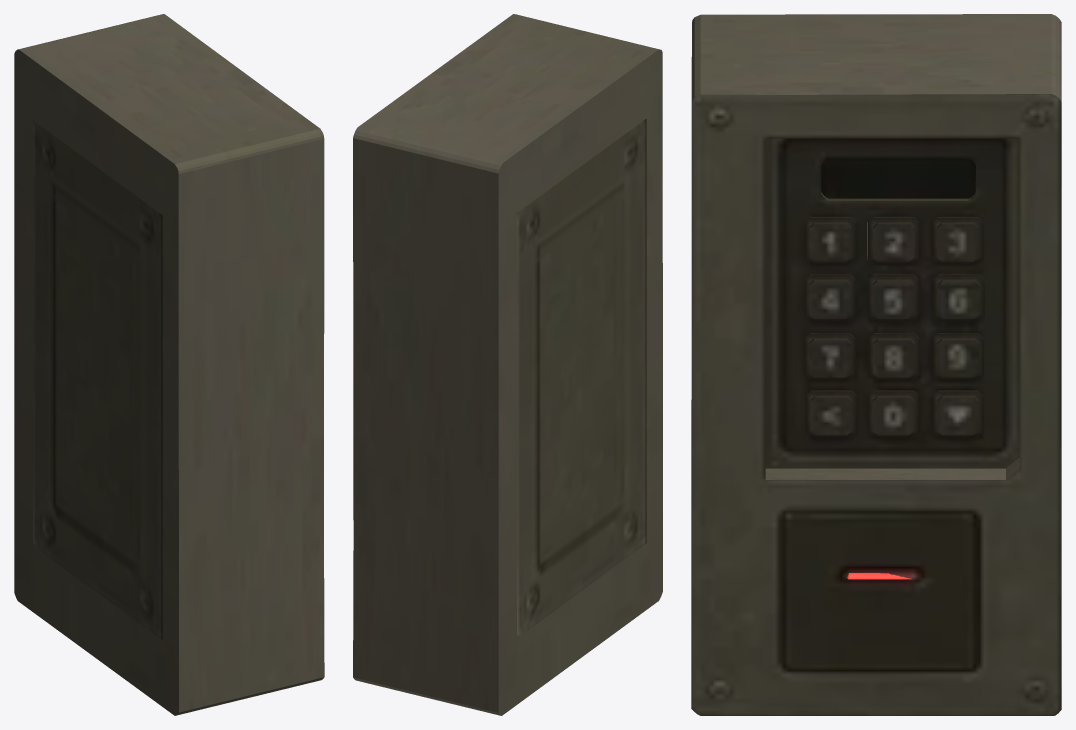
Rendered from keypad.glb.
The picture shows the model from 3 angles, left to right: view 1: azimuth 30°, elevation 25°; view 2: azimuth 150°, elevation 25°; view 3: azimuth 270°, elevation 25°; orthographic projection. The views are drawn at different scales.
Visible parts, largest first — view 1: 0_Base_0; view 2: 0_Base_0; view 3: 0_Base_0.
Boxes of the visible parts, box(x1,y1,x2,y2) form: 0_Base_0: box(14, 14, 324, 715); 0_Base_0: box(353, 14, 662, 715); 0_Base_0: box(691, 14, 1061, 715).
Bounding box in the file's own units: 0.0552 × 0.2 × 0.108.
Materials: 2 (2 with a texture image).
